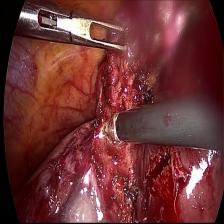Grasper: (36, 0, 133, 51)
Hook: (101, 107, 119, 147)
